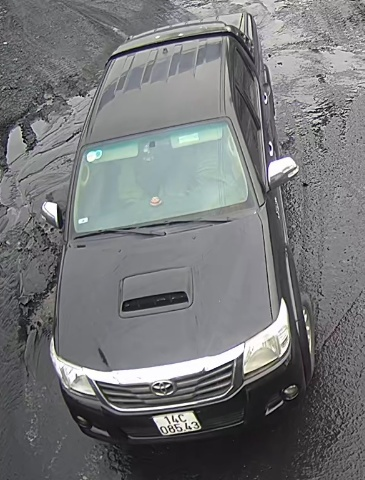vehicle plate: (148, 408, 205, 435)
